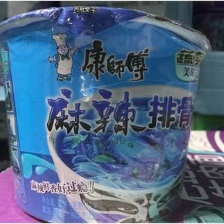paper_cup: (0, 1, 216, 224)
